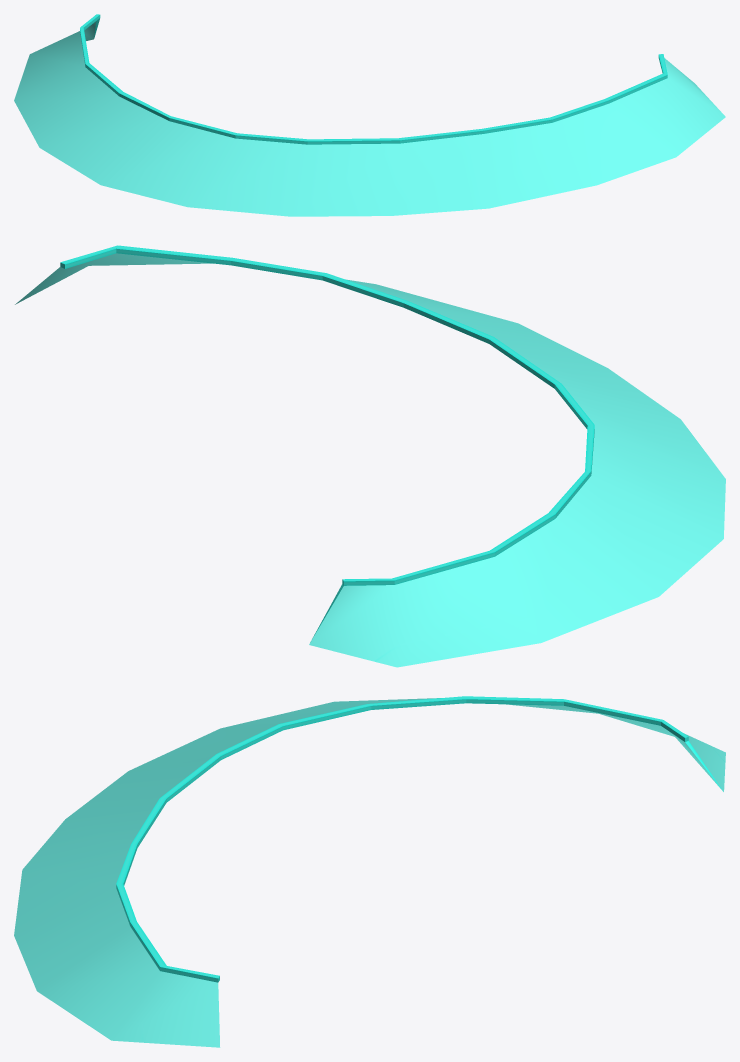
Rendered from disco_bar_lights.DAE.
3 renders of one model, top to bottom at view 1: azimuth 30°, elevation 25°; view 2: azimuth 150°, elevation 25°; view 3: azimuth 270°, elevation 25°, orthographic. The views are drawn at different scales.
Visible parts, largest first — view 1: Box03; view 2: Box03; view 3: Box03.
Part boxes in pixels (bbox=[...]): Box03: bbox=[14, 14, 725, 216]; Box03: bbox=[15, 245, 725, 667]; Box03: bbox=[14, 696, 725, 1047].
Bounding box in the file's own units: 11.79 × 0.7671 × 10.11.
